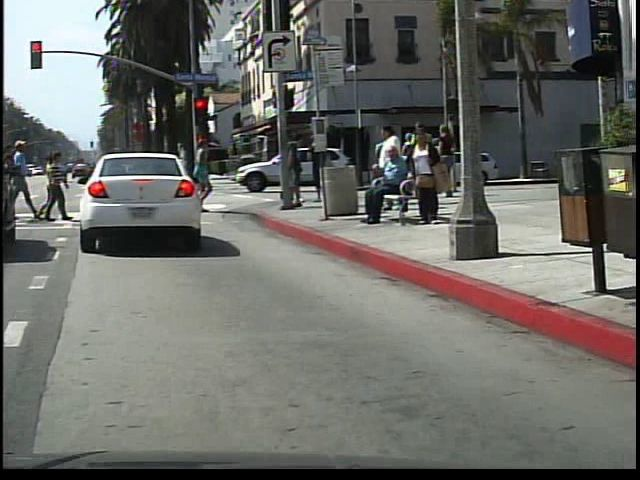person: (362, 147, 417, 226), (410, 126, 448, 225), (193, 134, 219, 182)
